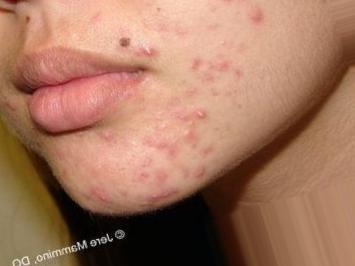Acne: (168, 96, 224, 154), (89, 128, 141, 167), (181, 54, 227, 95), (232, 0, 283, 35), (129, 40, 163, 64)
